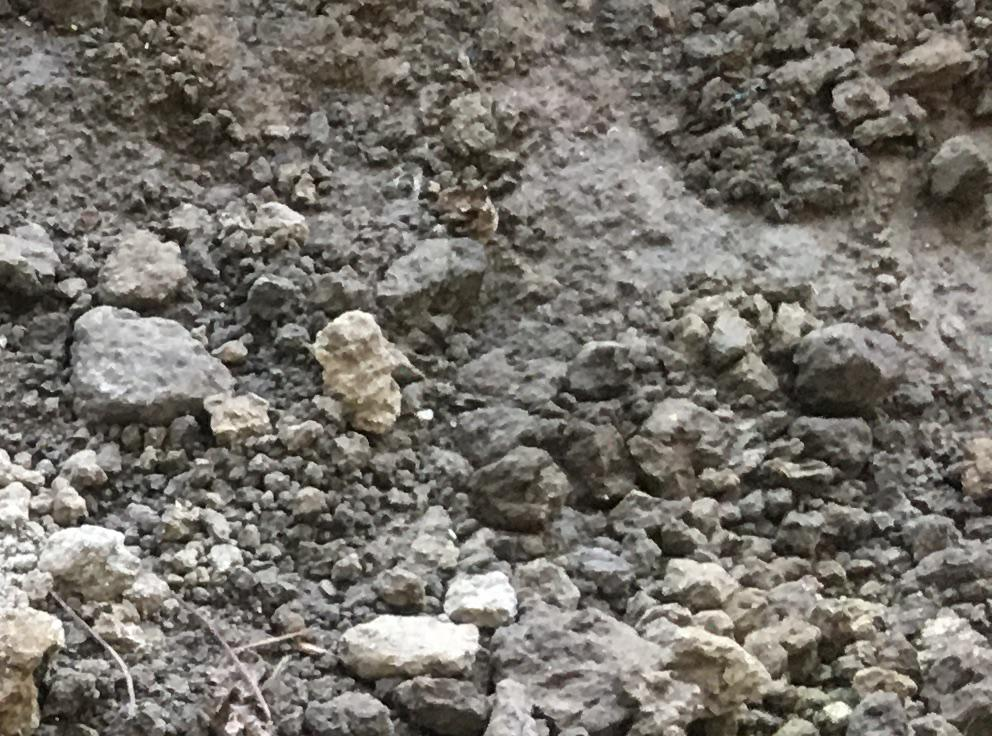block: (485, 607, 669, 728), (68, 309, 239, 415), (784, 317, 909, 414), (311, 305, 399, 435), (324, 612, 479, 674), (38, 523, 142, 612), (373, 232, 483, 315), (93, 230, 190, 306)
